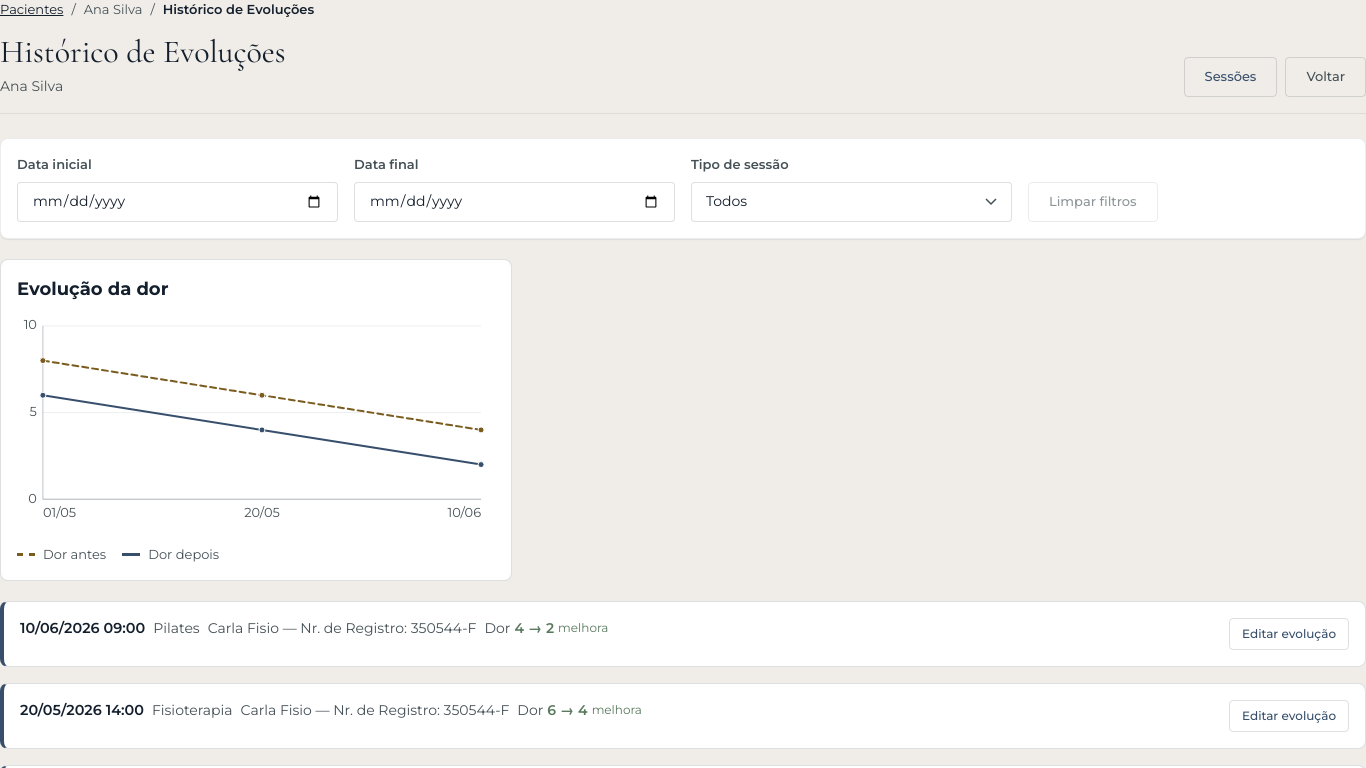
PacienteEvolucaoListComponent › filtros › should apply the filter typed in the date field of the rendered form
Type "2026-06-01" into the date field with id "filtroDataInicial" at (178, 202), box [17,182,338,222]
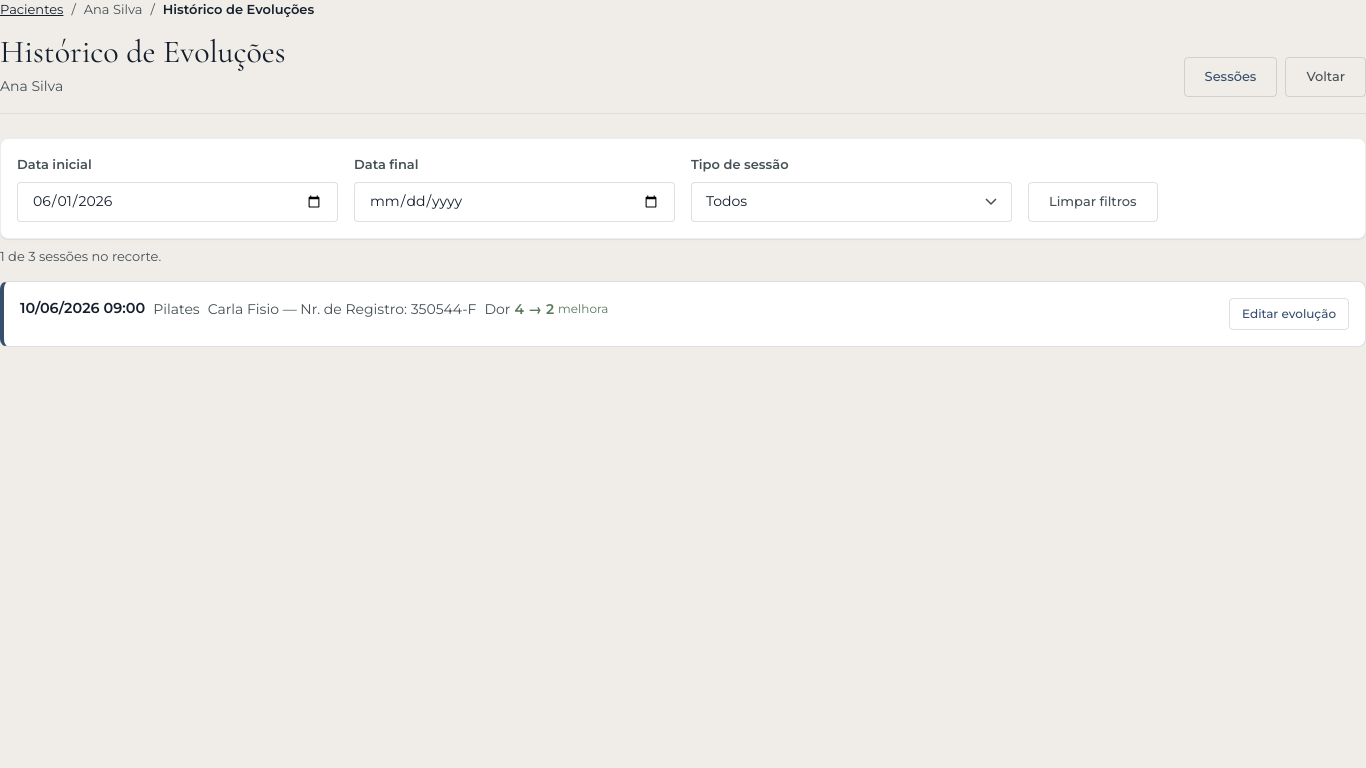
expect the number of elements with class "evolucao-card" is 1: met, box [0,281,1365,347]
